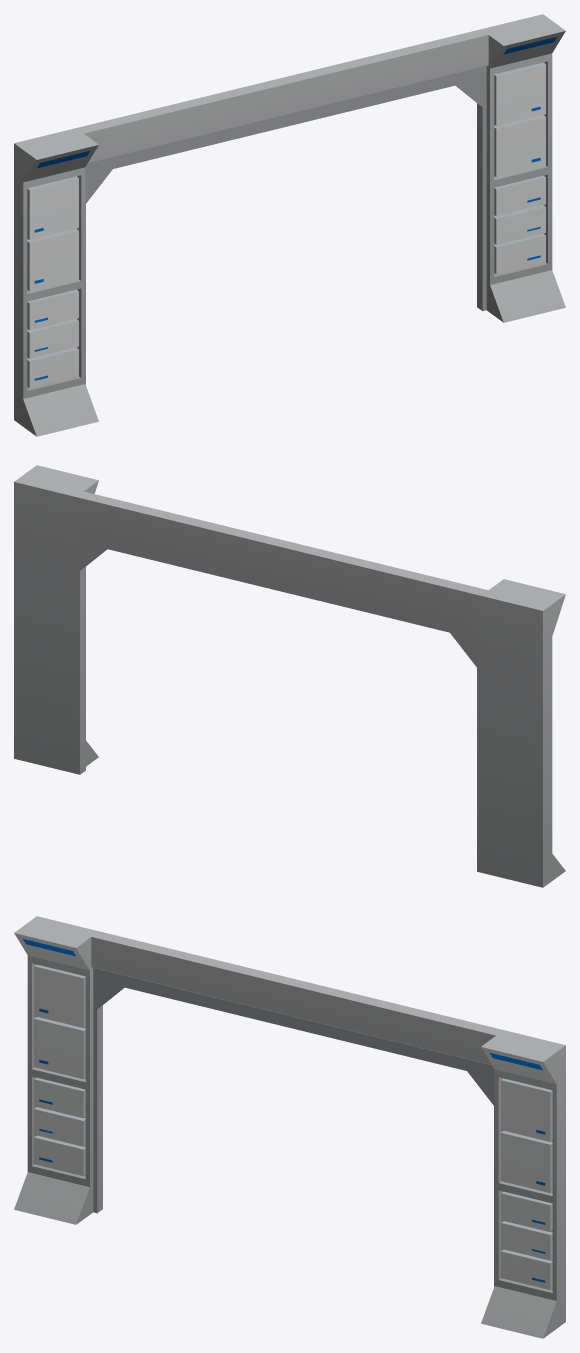
File: Wall_type_A_064.fbx
The picture shows the model from 3 angles, top to bottom: view 1: azimuth 30°, elevation 25°; view 2: azimuth 150°, elevation 25°; view 3: azimuth 330°, elevation 25°; orthographic projection.
Visible parts, largest first — view 1: Wall_type_A_064; view 2: Wall_type_A_064; view 3: Wall_type_A_064.
Boxes of the visible parts, left/top/right/bottom form: Wall_type_A_064: left=14, top=14, right=565, bottom=436; Wall_type_A_064: left=14, top=465, right=565, bottom=887; Wall_type_A_064: left=14, top=916, right=565, bottom=1338.
Bounding box in the file's own units: 800 × 60 × 400.
